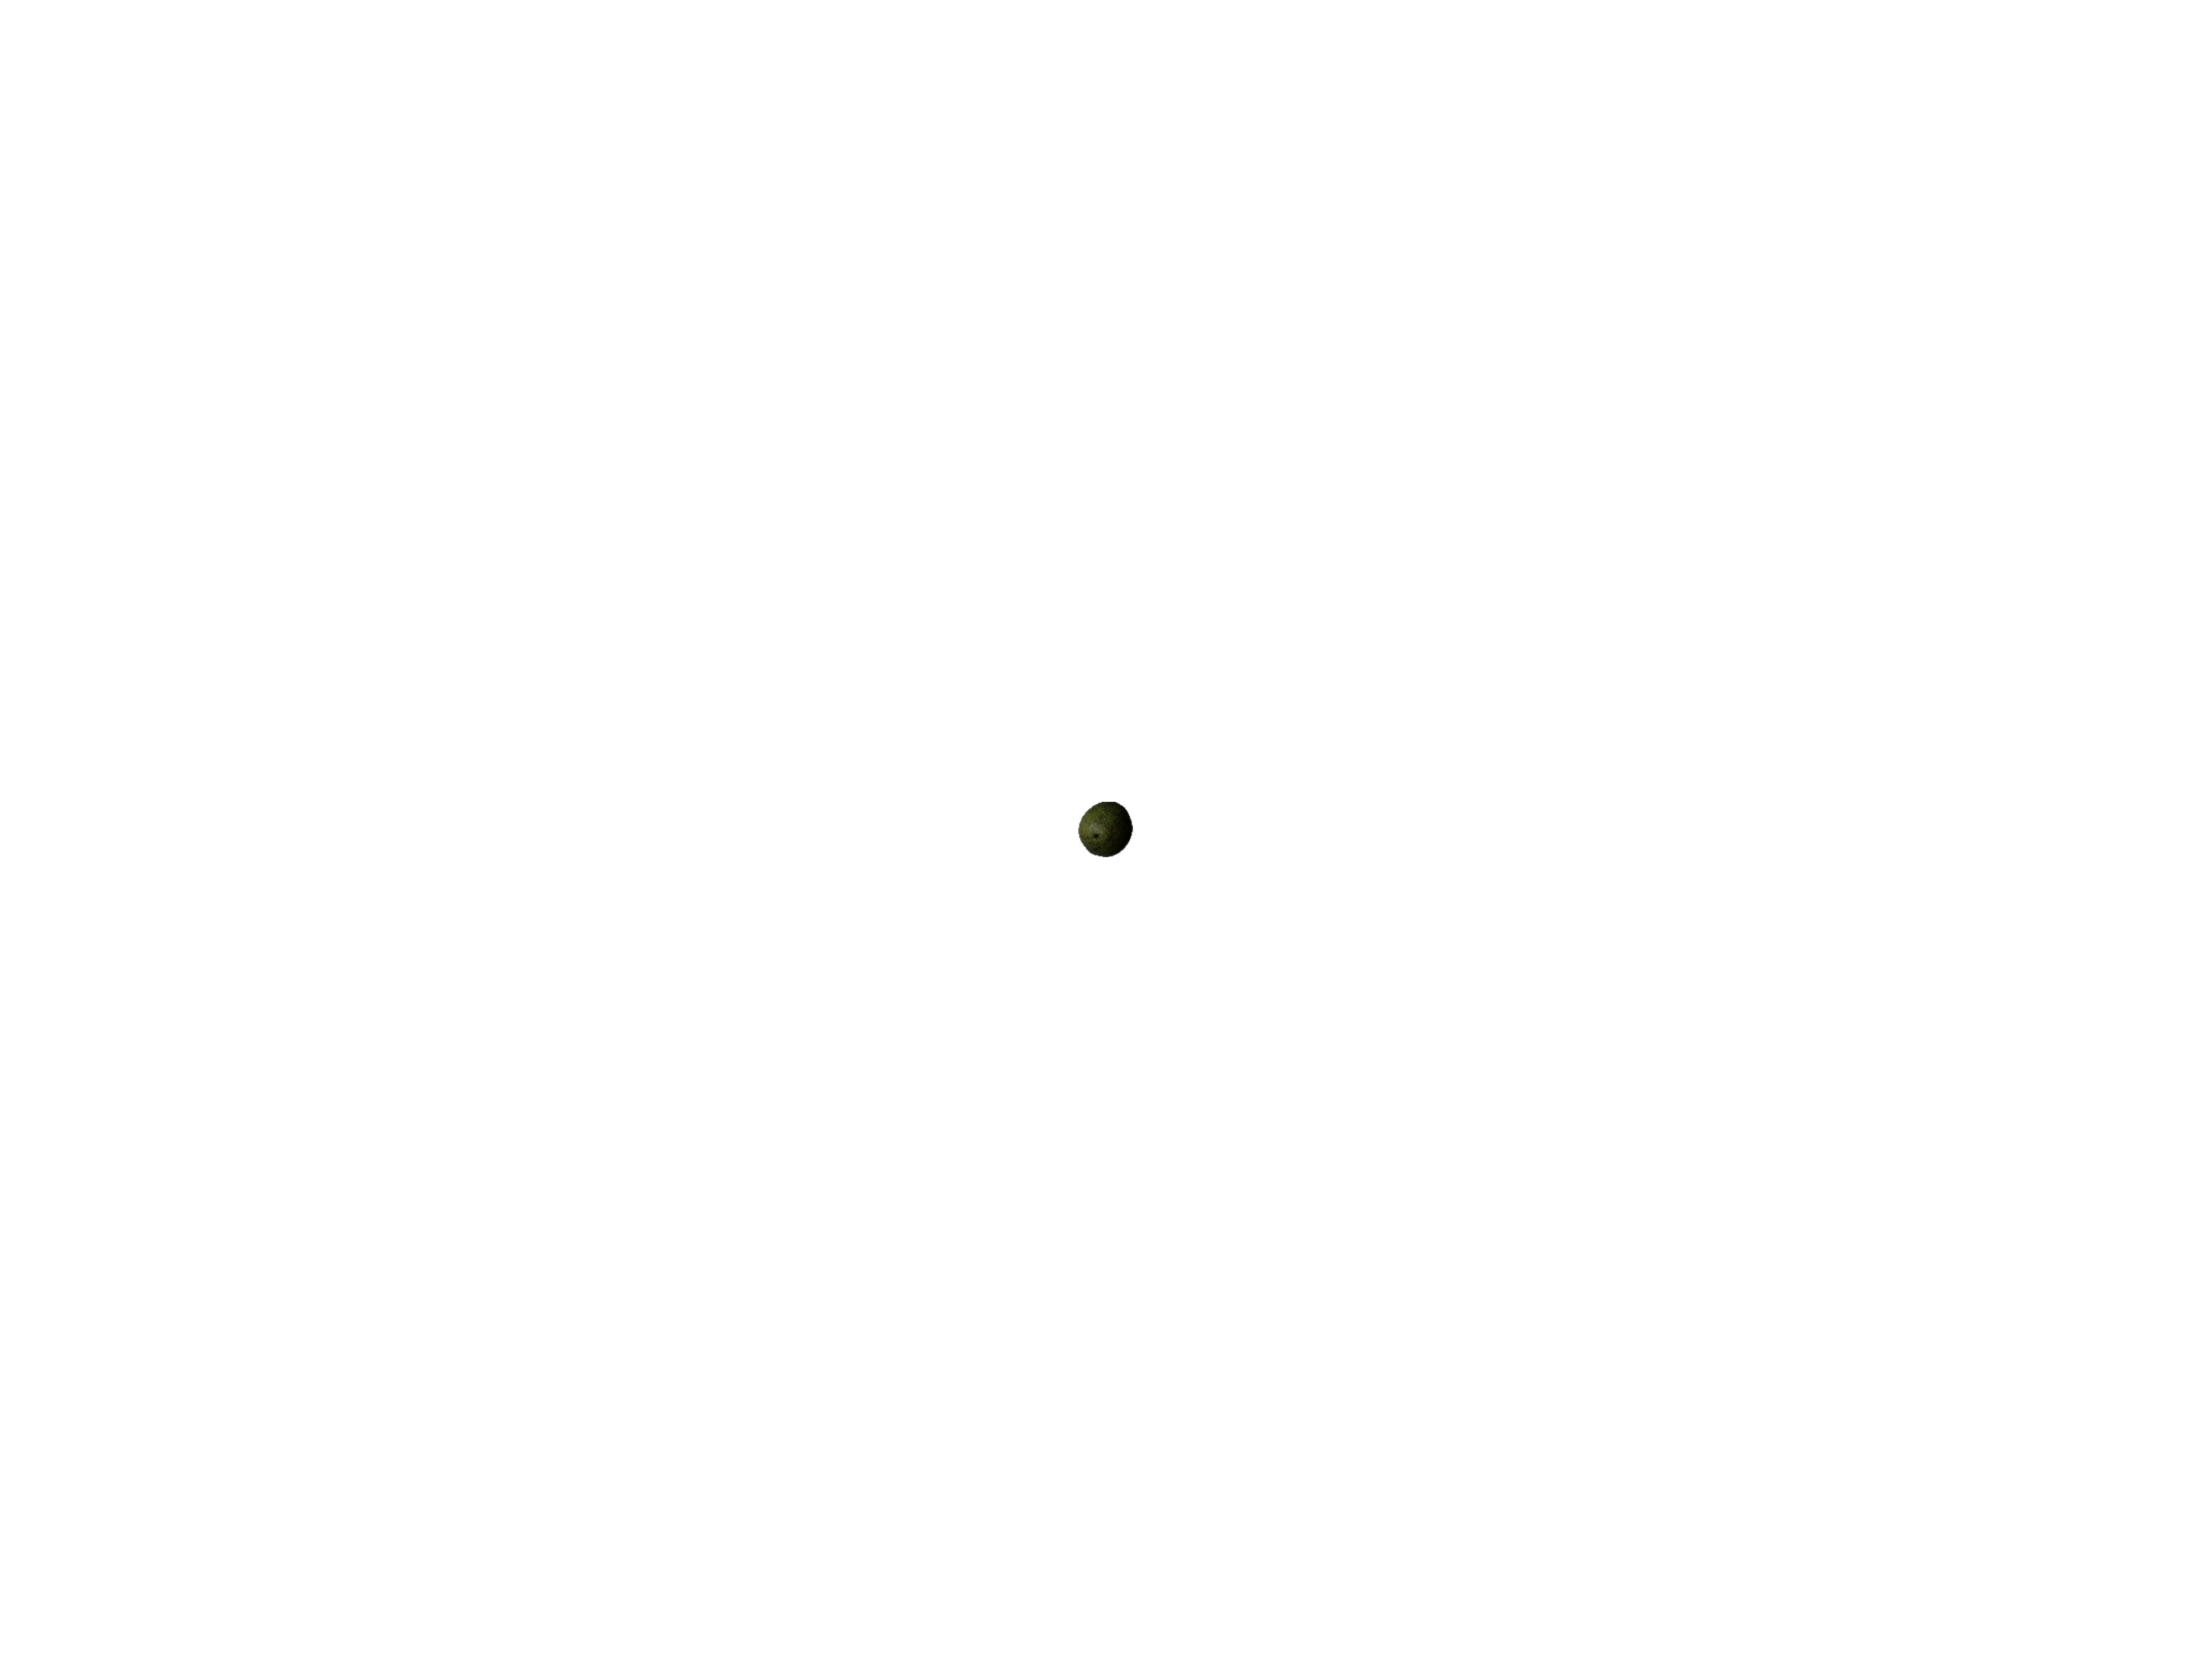abacate: (1076, 796, 1137, 857)
